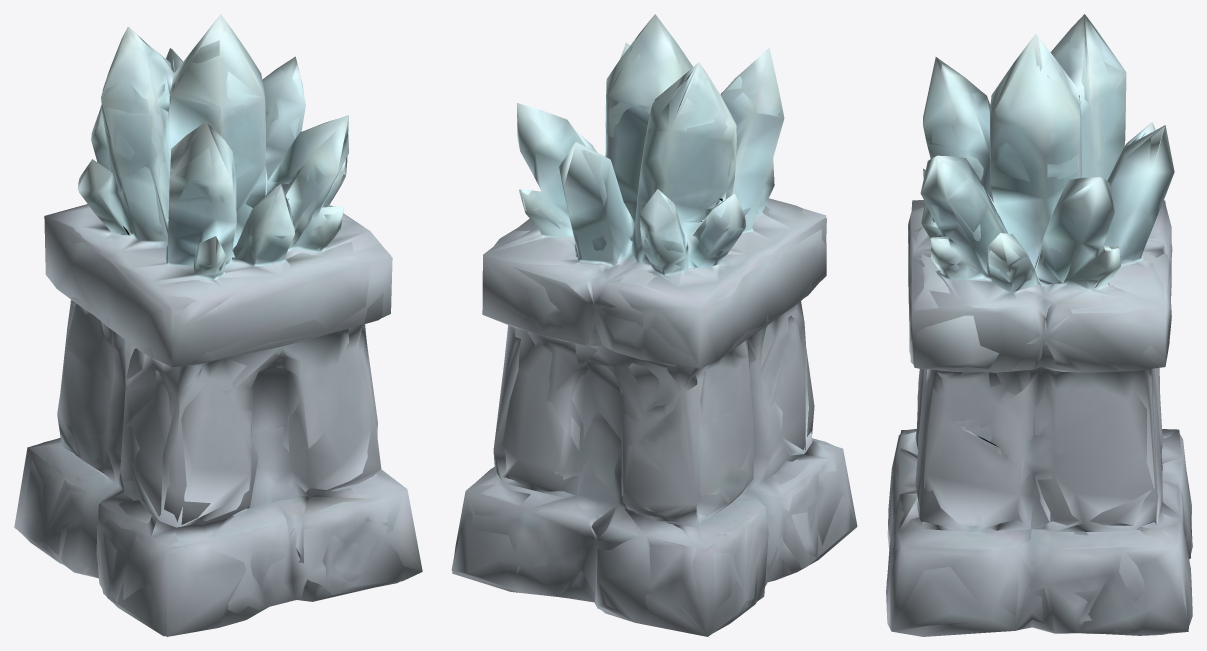
The model's file is frost.glb.
3 views of the same model, side by side, from view 1: azimuth 30°, elevation 25°; view 2: azimuth 150°, elevation 25°; view 3: azimuth 270°, elevation 25° (orthographic).
Size of the model in its own units: 0.5143 by 1.01 by 0.515.
Materials: 1 (1 with a texture image).
